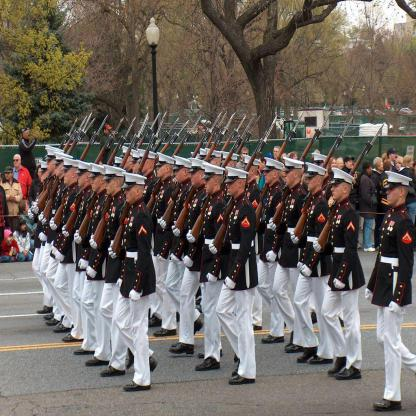face: (387, 187, 400, 206), (331, 182, 344, 200), (228, 177, 240, 196), (125, 186, 137, 203), (206, 176, 216, 194), (307, 176, 318, 192), (106, 178, 117, 194), (285, 169, 295, 186), (191, 170, 201, 187), (92, 176, 102, 192), (265, 169, 275, 184), (78, 173, 88, 188), (175, 168, 185, 183), (48, 159, 58, 173), (56, 162, 65, 177), (64, 169, 73, 184), (209, 158, 219, 171), (158, 165, 168, 178), (140, 160, 149, 174), (244, 167, 252, 181), (42, 171, 50, 184), (123, 156, 131, 169), (224, 163, 233, 174), (258, 159, 266, 171), (133, 163, 140, 174), (14, 156, 20, 168), (378, 162, 385, 171), (274, 149, 280, 159), (409, 159, 415, 169), (24, 204, 30, 214), (39, 168, 44, 179), (332, 160, 338, 169), (243, 151, 248, 161), (397, 161, 402, 171), (6, 172, 12, 180), (25, 131, 31, 139), (339, 161, 344, 170), (348, 160, 353, 169), (368, 166, 373, 175), (392, 153, 397, 161), (22, 224, 27, 231), (293, 155, 298, 161), (9, 236, 14, 242), (106, 129, 110, 136), (283, 158, 287, 164)
